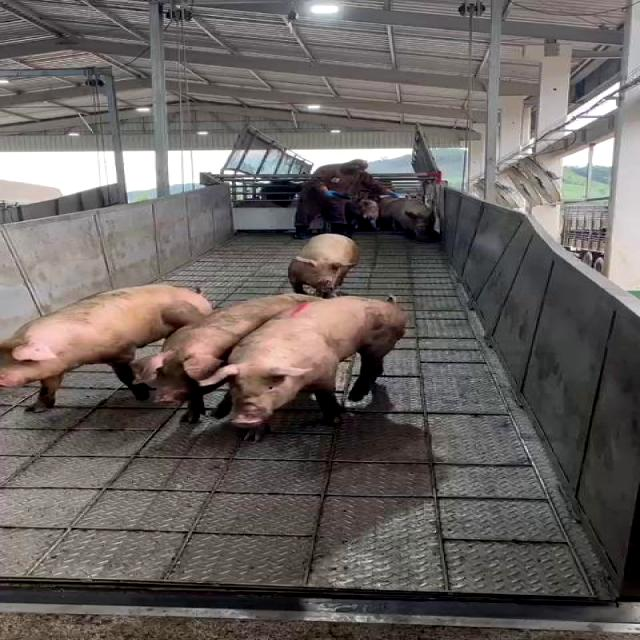pig: (1, 284, 212, 409), (202, 303, 406, 426), (129, 292, 321, 417), (289, 234, 360, 297), (288, 235, 353, 293)
